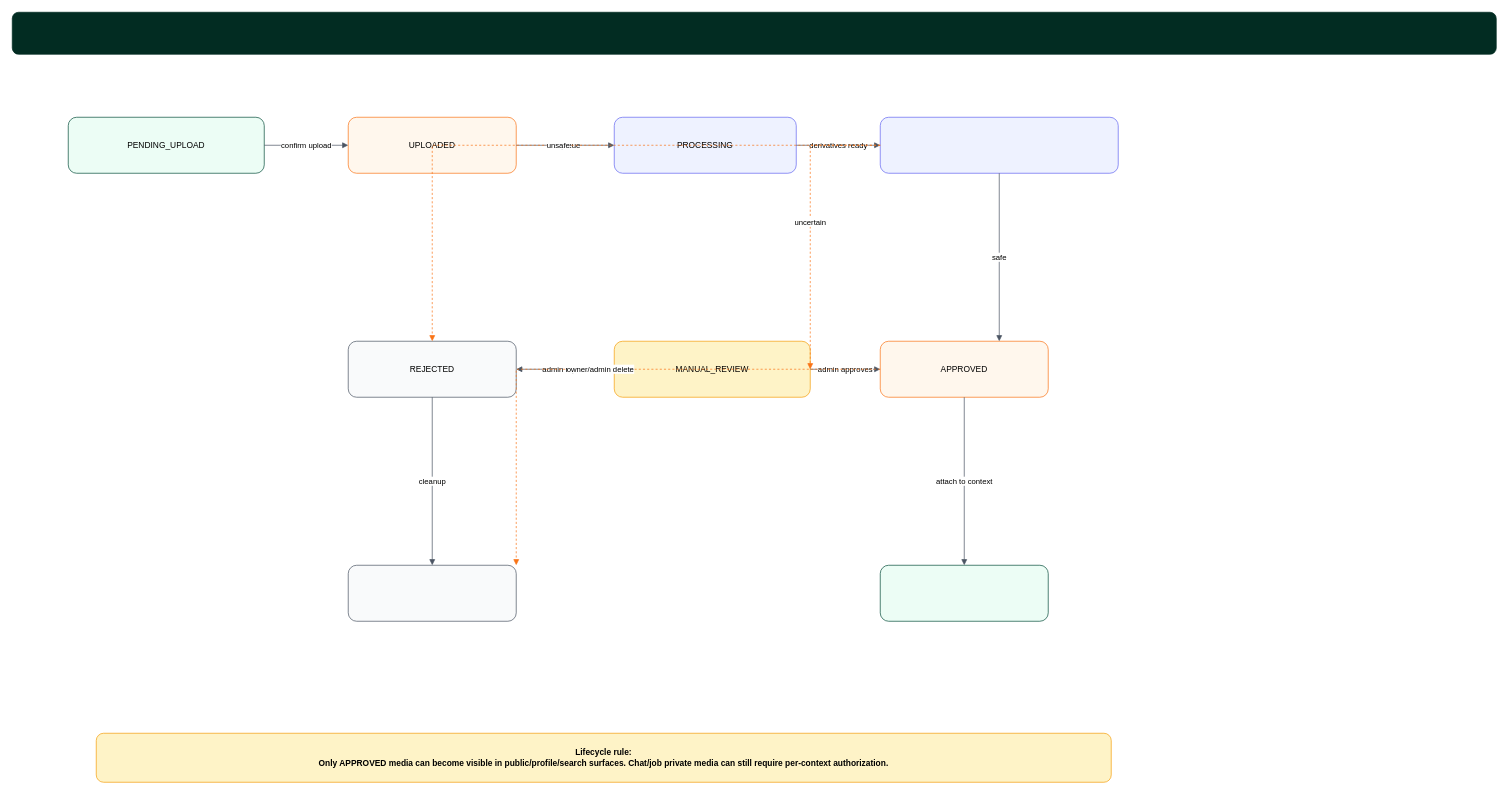
The diagram is 1509 pixels wide and 795 high, and some of its shapes have lost their labels. Here are the shapes that lost their labels. From the top down, the box of each, then its label:
(12, 12, 1496, 54): Viaverse Media Asset — State Diagram
(880, 117, 1118, 173): PENDING_MODERATION
(348, 565, 516, 621): DELETED
(880, 565, 1048, 621): ATTACHED
